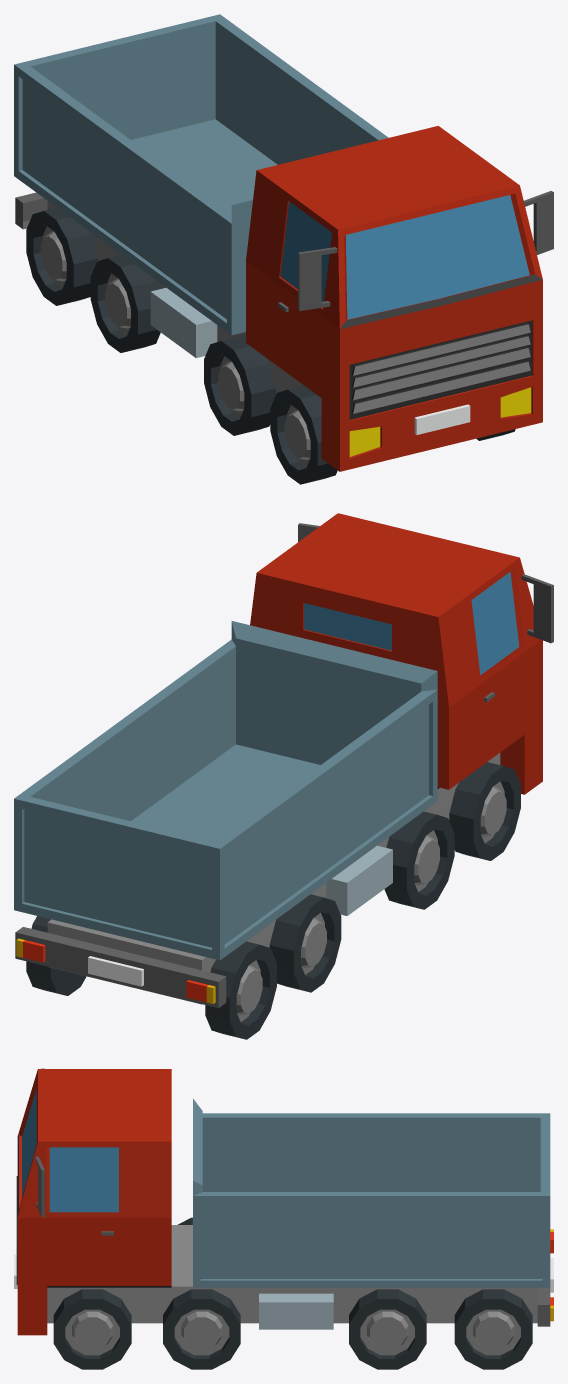
Rendered from Red-car-cargo.glb.
3 renders of one model, top to bottom at view 1: azimuth 30°, elevation 25°; view 2: azimuth 150°, elevation 25°; view 3: azimuth 270°, elevation 25°, orthographic. The views are drawn at different scales.
Parts seen in each view (by area): view 1: Dumper Truck Red; view 2: Dumper Truck Red; view 3: Dumper Truck Red.
Part boxes in pixels (x1,y1,x2,y2): Dumper Truck Red: [14, 14, 553, 484]; Dumper Truck Red: [14, 513, 553, 1039]; Dumper Truck Red: [14, 1068, 553, 1369].
Bounding box in the file's own units: 3.13 × 3.2 × 7.
1 material, 1 textured.
